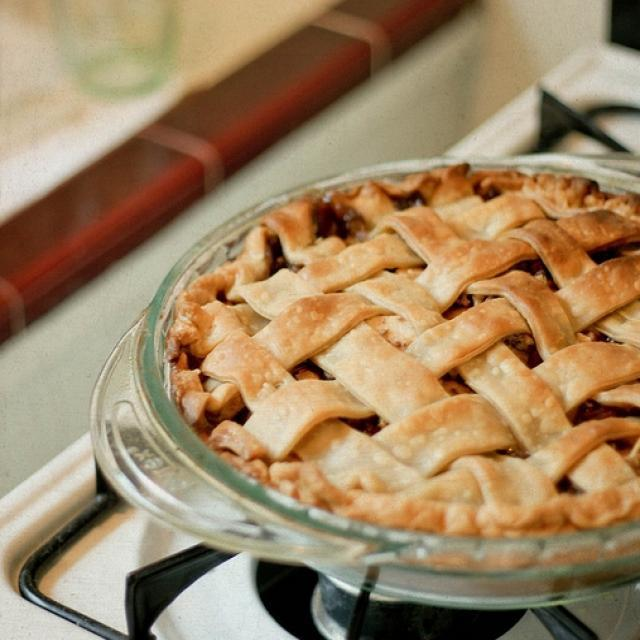Apple: (180, 170, 640, 539)
